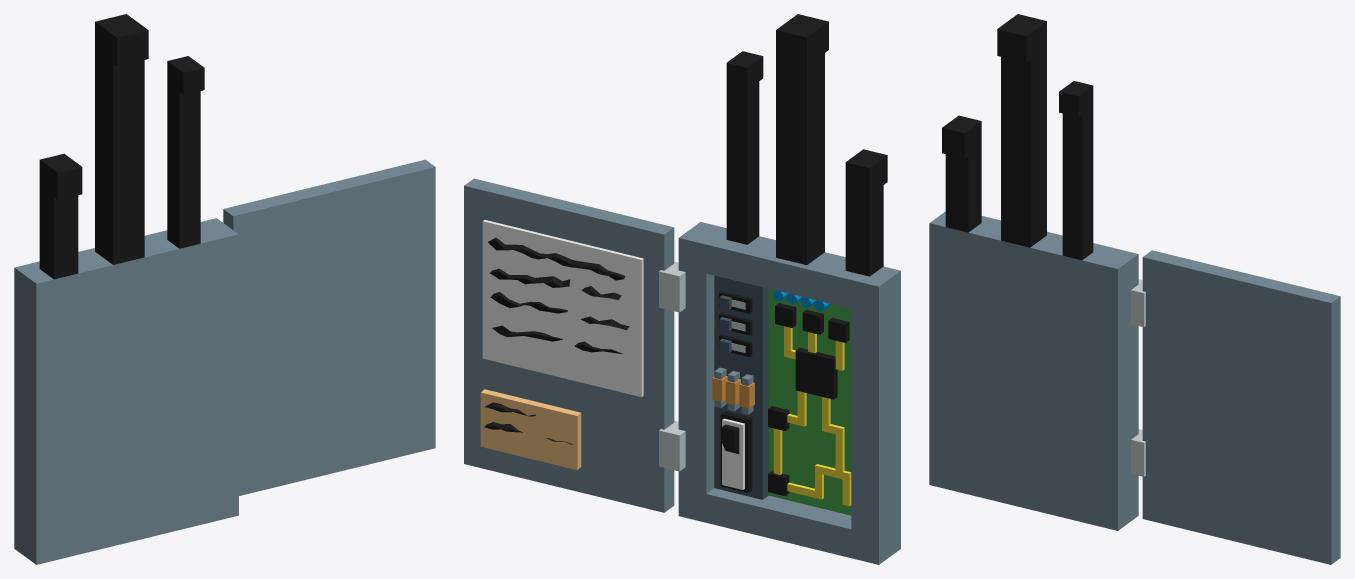
The model's file is Fuse Box.glb.
3 renders of one model, left to right at view 1: azimuth 30°, elevation 25°; view 2: azimuth 150°, elevation 25°; view 3: azimuth 330°, elevation 25°, orthographic. The views are drawn at different scales.
Visible parts, largest first — view 1: group221127956, group1023634171; view 2: group221127956, group1023634171; view 3: group221127956, group1023634171.
Part boxes in pixels (x1,y1,x2,y2): group221127956: [14, 14, 238, 564]; group1023634171: [223, 159, 435, 495]; group221127956: [659, 14, 900, 564]; group1023634171: [464, 178, 674, 512]; group221127956: [929, 14, 1145, 530]; group1023634171: [1142, 250, 1340, 564].
Size of the model in its own units: 1.19 by 1.4 by 0.1883.
